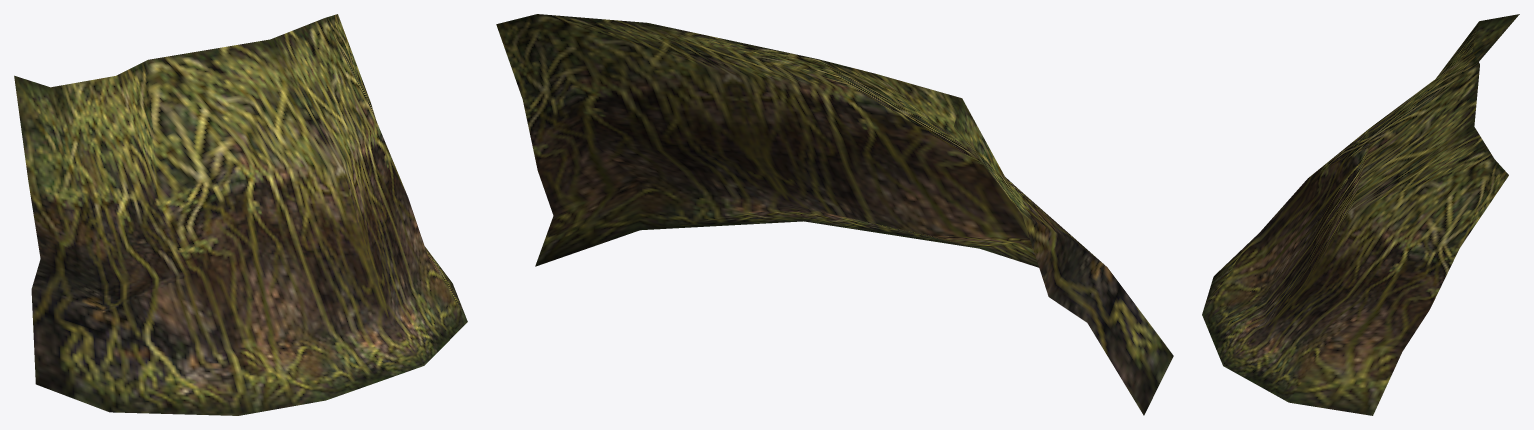
3 renders of one model, left to right at view 1: azimuth 30°, elevation 25°; view 2: azimuth 150°, elevation 25°; view 3: azimuth 270°, elevation 25°, orthographic. The views are drawn at different scales.
Visible parts, largest first — view 1: wj39; view 2: wj39; view 3: wj39.
Part boxes in pixels (x1,y1,x2,y2): wj39: (14,14,467,415); wj39: (496,14,1173,415); wj39: (1202,14,1519,415).
Size of the model in its own units: 2735 by 1527 by 1876.
